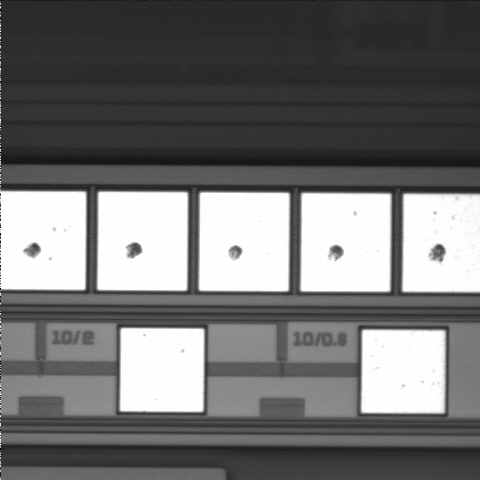pad: (98, 192, 188, 291), (301, 193, 391, 292), (199, 193, 289, 291), (120, 328, 204, 412), (361, 330, 445, 413)
